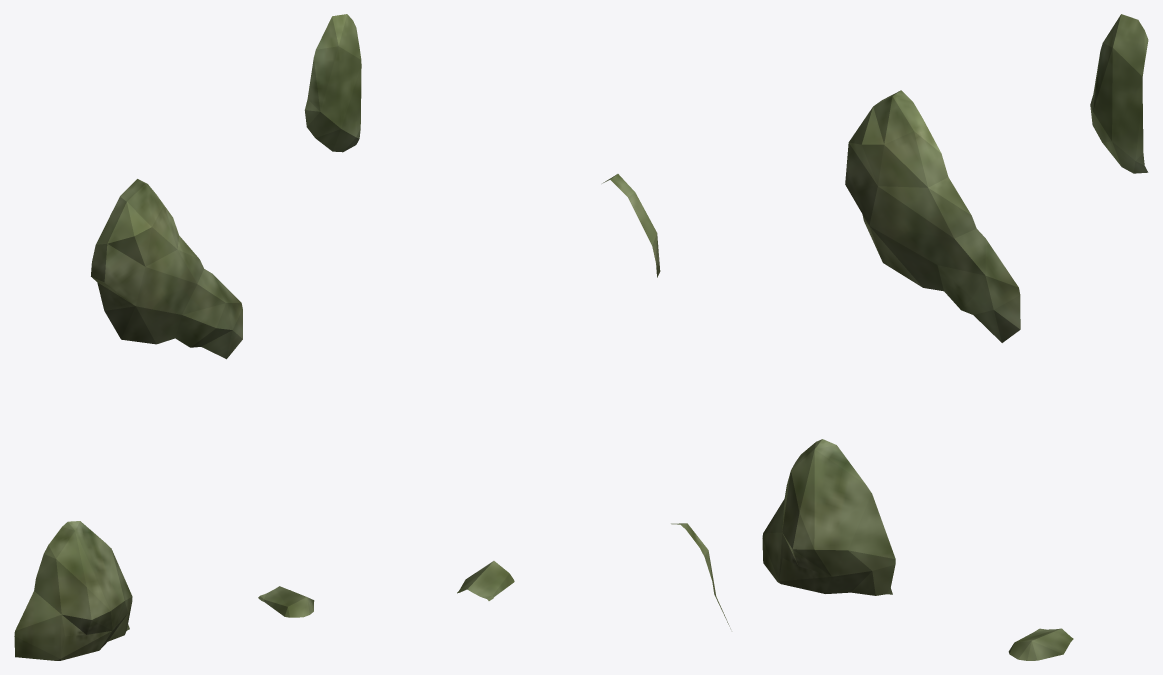
The picture shows the model from 3 angles, left to right: view 1: azimuth 30°, elevation 25°; view 2: azimuth 150°, elevation 25°; view 3: azimuth 330°, elevation 25°; orthographic projection. The views are drawn at different scales.
Size of the model in its own units: 1.49 by 2.35 by 0.2361.
Materials: 1 (1 with a texture image).
